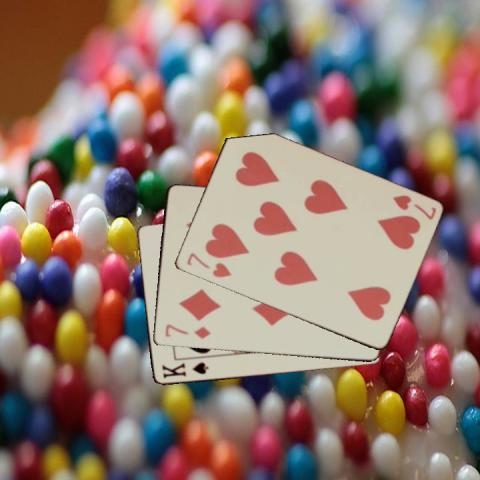7d: (161, 321, 212, 341)
7h: (183, 250, 232, 280), (390, 192, 438, 221)
Ks: (159, 359, 209, 380)
